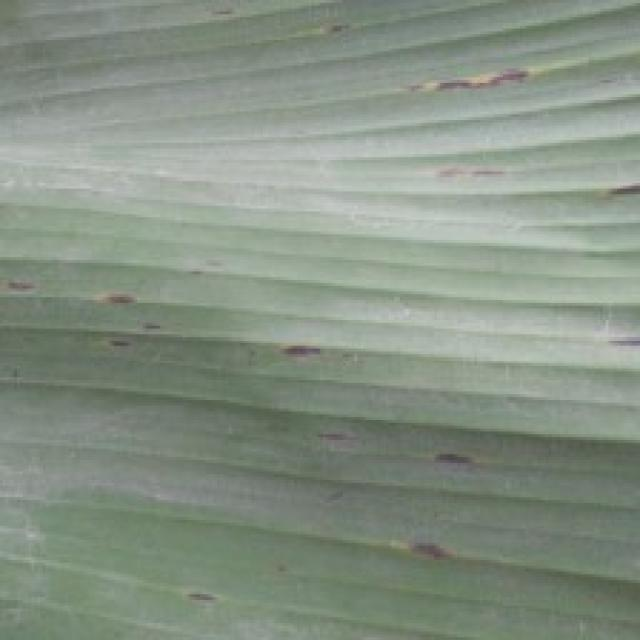Early_leaf_spot: (398, 47, 552, 102), (92, 261, 172, 366), (164, 560, 260, 640), (408, 136, 527, 200), (268, 318, 357, 386), (423, 430, 504, 497), (389, 512, 458, 574), (306, 408, 374, 468), (594, 169, 640, 220), (306, 13, 357, 45), (4, 270, 41, 308)
